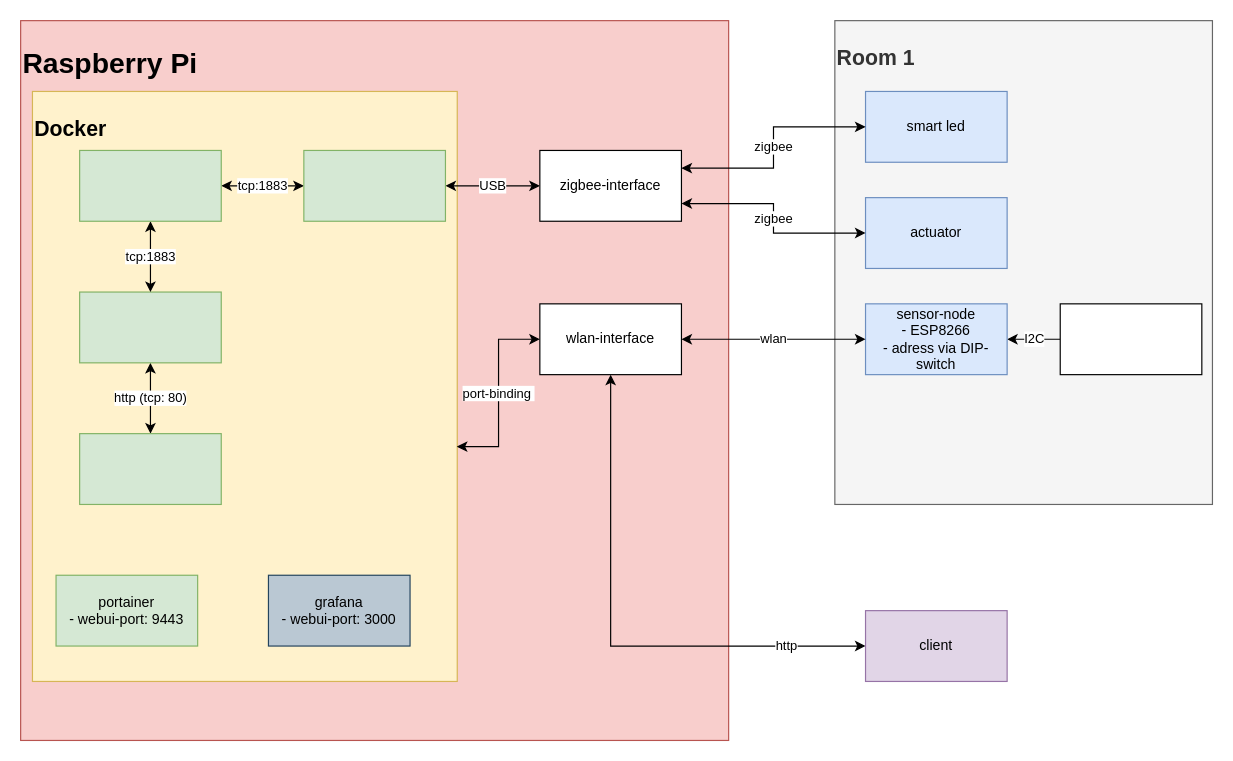
This 1233x761 diagram has some shape labels left out. Each missing label, with the centre of its shape:
acme-cse: - webui-port: 8080 - mqtt enabled - notification server: point (149, 327)
mosquitto: point (149, 185)
nodered - webui-port: 1880: point (149, 468)
SCD30 Sensor - CO2 - Temperature - Humidity: point (1130, 339)
zigbee2mqtt - webui-port: 8081: point (374, 185)
